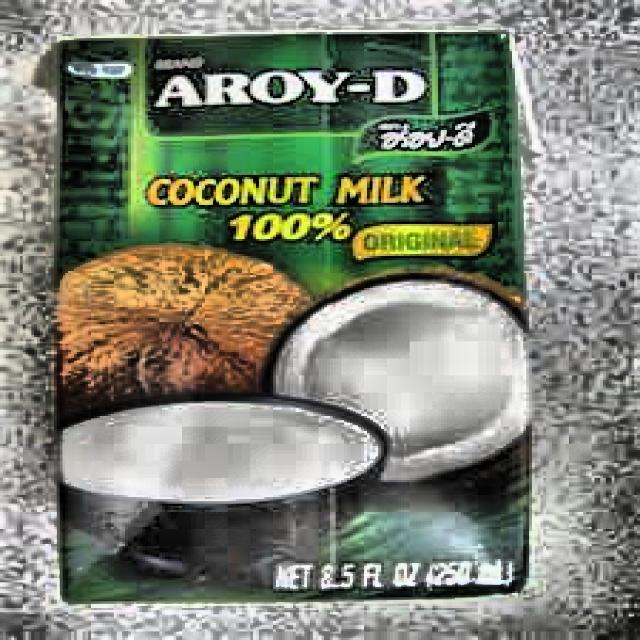cardboard: (51, 28, 535, 602)
